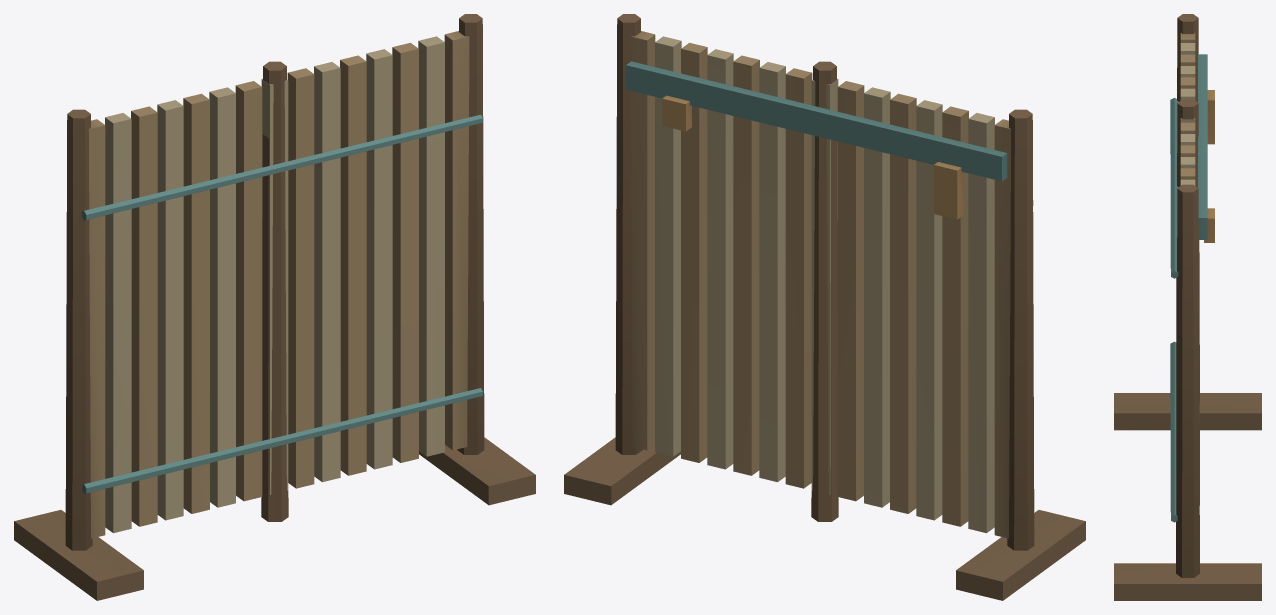
Rendered from reed_screen.glb.
The picture shows the model from 3 angles, left to right: view 1: azimuth 30°, elevation 25°; view 2: azimuth 150°, elevation 25°; view 3: azimuth 270°, elevation 25°; orthographic projection. The views are drawn at different scales.
Visible parts, largest first — view 1: reed_screen; view 2: reed_screen; view 3: reed_screen.
Boxes of the visible parts, left/top/right/bottom form: reed_screen: left=14, top=14, right=535, bottom=600; reed_screen: left=564, top=14, right=1085, bottom=600; reed_screen: left=1114, top=14, right=1261, bottom=600.
Size of the model in its own units: 1.68 by 1.65 by 0.55.
